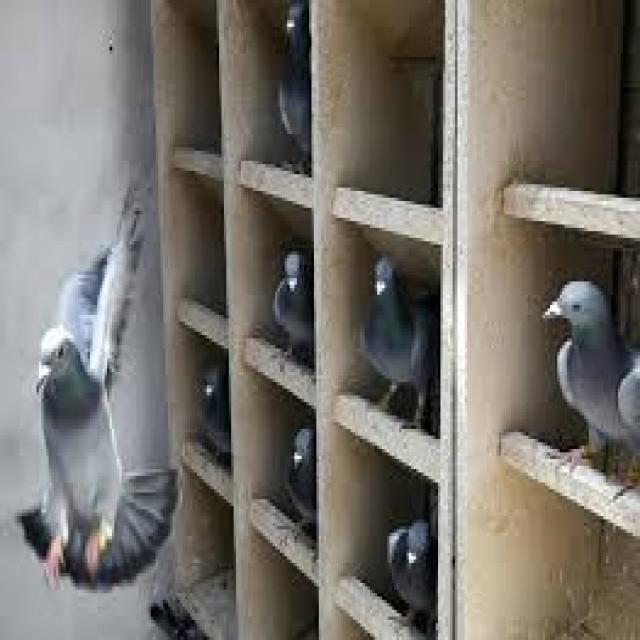pigeon: (0, 228, 193, 616)
